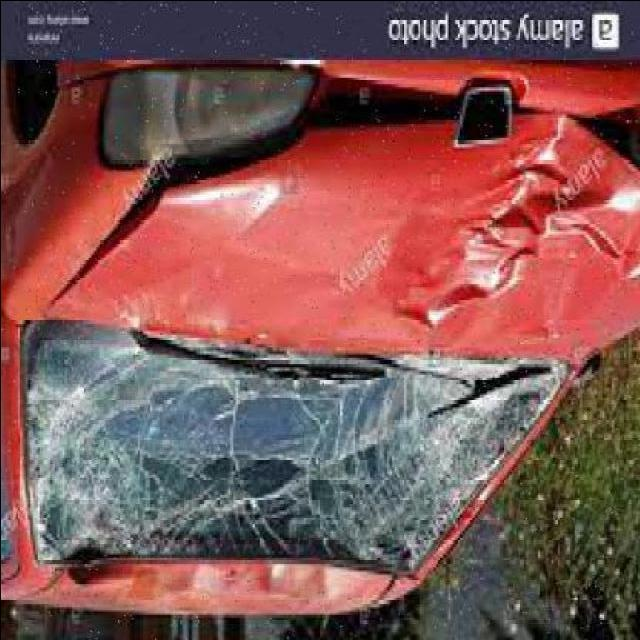Front-Windscreen-Damage: (6, 340, 549, 587)
bonnet-dent: (140, 115, 640, 352)
